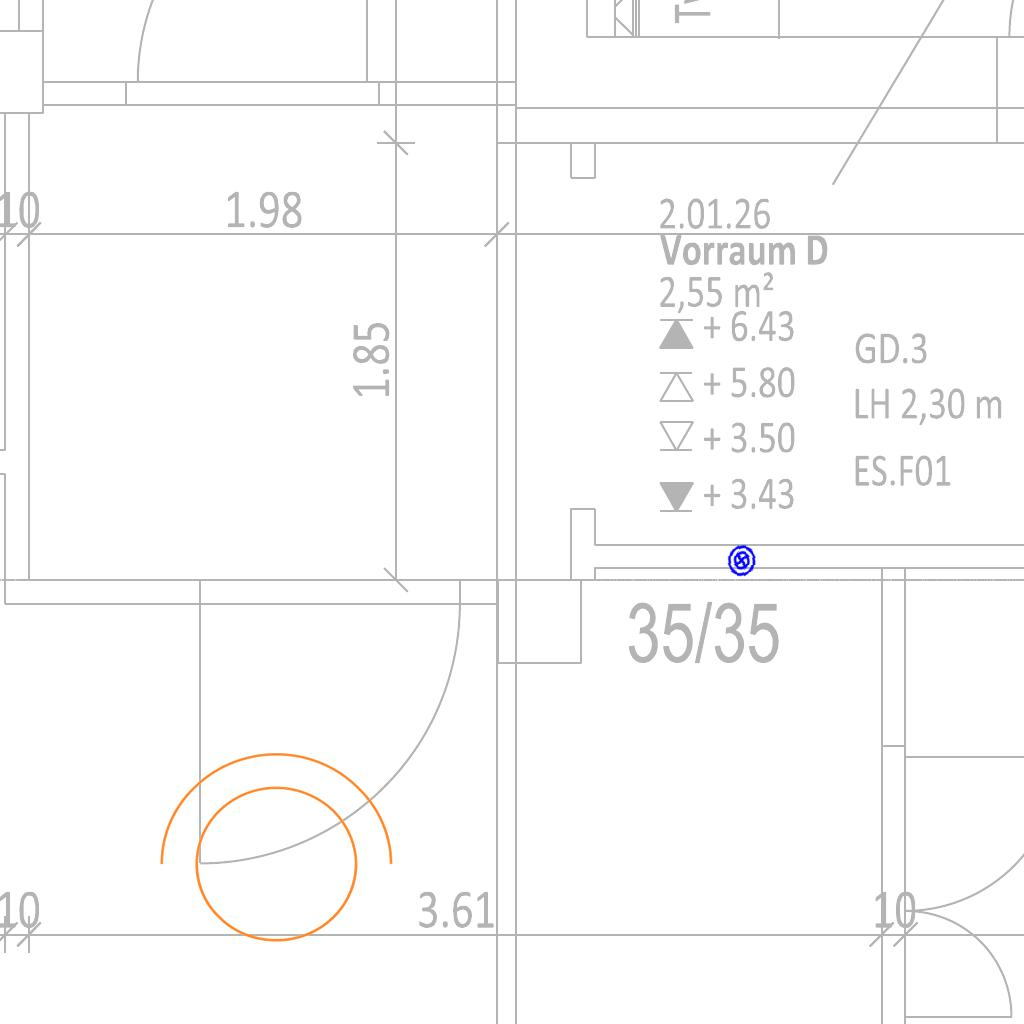Scheinwerfer_fuer_Alarmbeleuchtung: (138, 742, 402, 967)
Taster_beleuchtet: (722, 541, 761, 580)
